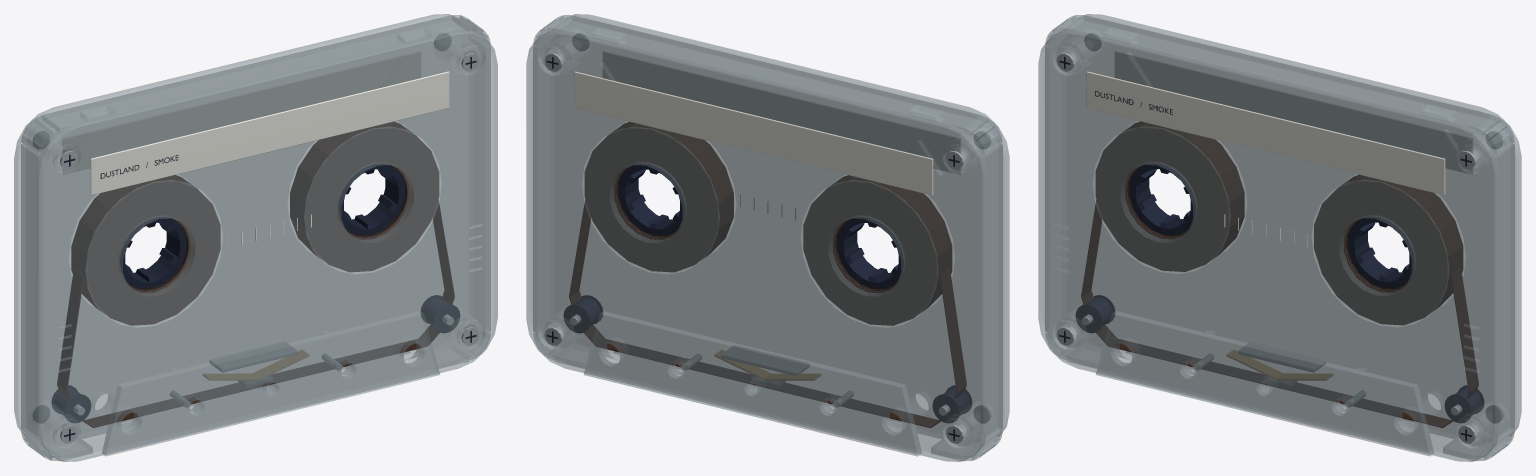
Rendered from smoke.glb.
The picture shows the model from 3 angles, left to right: view 1: azimuth 30°, elevation 25°; view 2: azimuth 150°, elevation 25°; view 3: azimuth 330°, elevation 25°; orthographic projection.
Visible parts, largest first — view 1: shell_front__smoke, shell_back__smoke, shell_front_head_shroud, original magnetic winding__Cylinder.002, label_front__smoke, original magnetic winding__Cylinder.004, label_back__smoke, topwall.001, sidewall.002, sidewall.003, continuous magnetic ribbon.010, original toothed hub__Cylinder.001 (+13 smaller); view 2: shell_back__smoke, shell_front__smoke, shell_back_head_shroud, original magnetic winding__Cylinder.002, label_back__smoke, original magnetic winding__Cylinder.004, label_front__smoke, topwall.001, sidewall.002, sidewall.003, continuous magnetic ribbon.010, original toothed hub__Cylinder.003 (+14 smaller); view 3: shell_front__smoke, shell_back__smoke, shell_front_head_shroud, original magnetic winding__Cylinder.004, label_front__smoke, original magnetic winding__Cylinder.002, label_back__smoke, topwall.001, sidewall.003, sidewall.002, continuous magnetic ribbon.010, original toothed hub__Cylinder.003 (+13 smaller).
Part boxes in pixels (x1,y1,x2,y2): shell_front__smoke: (36,30,497,461); shell_back__smoke: (14,14,468,442); shell_front_head_shroud: (102,311,439,456); original magnetic winding__Cylinder.002: (290,122,438,271); label_front__smoke: (90,71,449,195); original magnetic winding__Cylinder.004: (71,175,220,325); label_back__smoke: (63,51,420,174); topwall.001: (42,15,469,132); sidewall.002: (21,143,42,441); sidewall.003: (473,38,490,332); continuous magnetic ribbon.010: (84,339,427,427); original toothed hub__Cylinder.001: (338,163,405,235); shell_back__smoke: (526,30,987,461); shell_front__smoke: (555,14,1009,442); shell_back_head_shroud: (584,311,921,456); original magnetic winding__Cylinder.002: (585,122,733,272); label_back__smoke: (574,71,933,195); original magnetic winding__Cylinder.004: (803,175,952,325); label_front__smoke: (603,51,960,174); topwall.001: (554,15,981,132); sidewall.002: (981,144,1002,441); sidewall.003: (533,38,550,332); continuous magnetic ribbon.010: (596,339,938,427); original toothed hub__Cylinder.003: (837,217,903,289); shell_front__smoke: (1038,30,1499,461); shell_back__smoke: (1067,14,1521,442); shell_front_head_shroud: (1096,311,1433,456); original magnetic winding__Cylinder.004: (1096,121,1244,271); label_front__smoke: (1086,71,1445,195); original magnetic winding__Cylinder.002: (1314,174,1463,324); label_back__smoke: (1115,51,1472,174); topwall.001: (1066,15,1493,132); sidewall.003: (1493,143,1514,441); sidewall.002: (1045,38,1062,332); continuous magnetic ribbon.010: (1108,339,1451,427); original toothed hub__Cylinder.003: (1129,163,1195,235).
Size of the model in its own units: 9.58 by 6.7 by 1.24.
